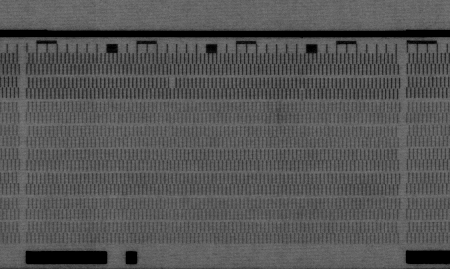Broken hole: (167, 78, 178, 90)
Oblique printing: (297, 87, 308, 101)
